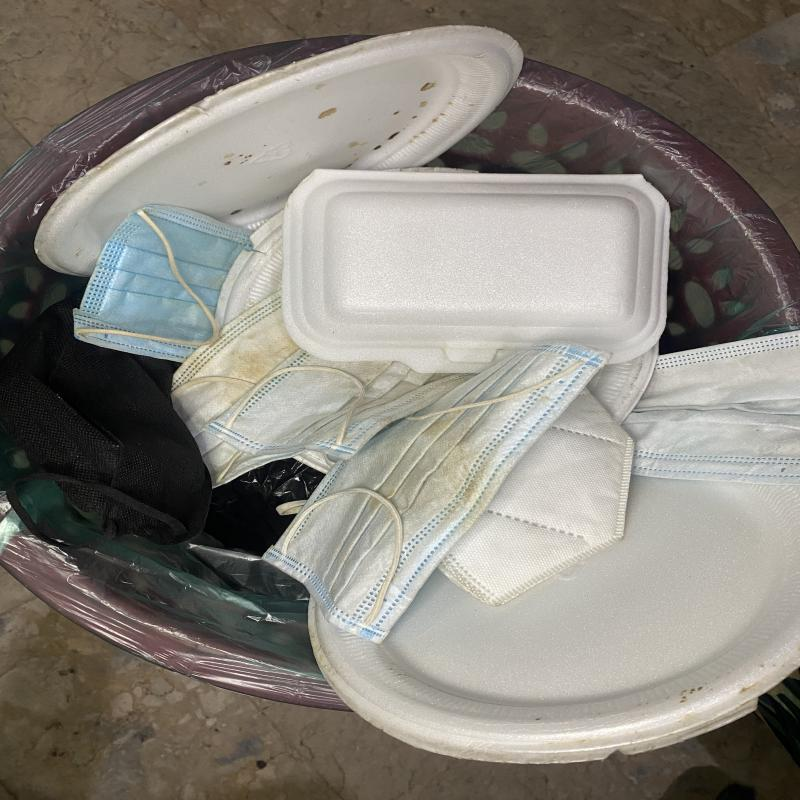facemask: (261, 341, 613, 644), (436, 387, 634, 607), (204, 350, 478, 460), (73, 204, 254, 363), (621, 330, 800, 485), (170, 290, 299, 489)
styrofoam containers: (306, 475, 800, 765), (32, 25, 524, 277), (281, 170, 670, 374)
